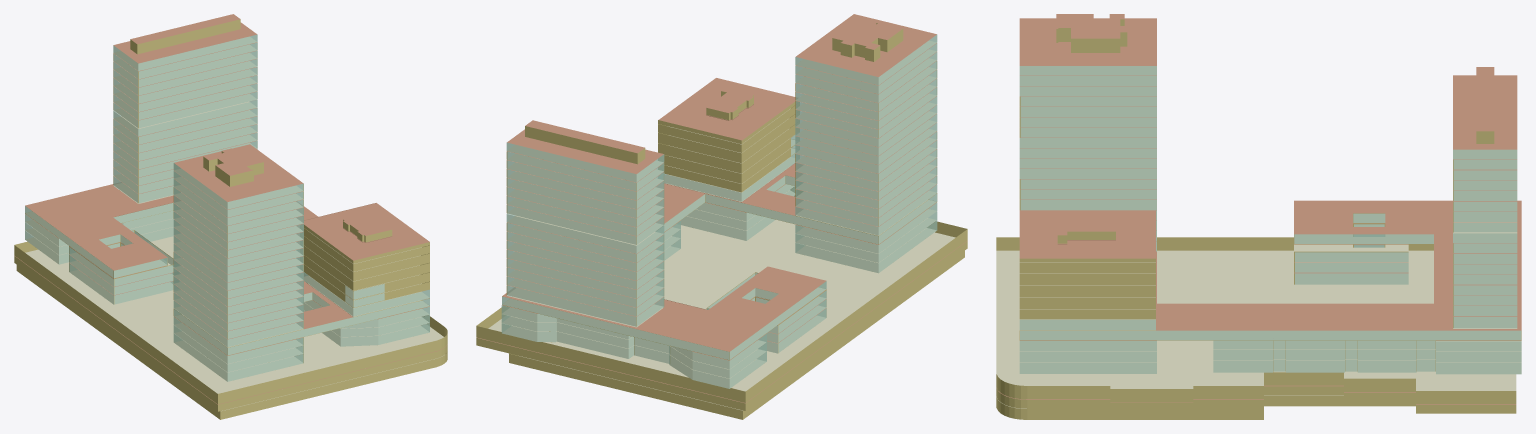
The model's file is 220128-ChengDu-Simple_9_Baseline.gltf.
The picture shows the model from 3 angles, left to right: view 1: azimuth 30°, elevation 25°; view 2: azimuth 150°, elevation 25°; view 3: azimuth 270°, elevation 25°; orthographic projection. The views are drawn at different scales.
Parts seen in each view (by area): view 1: Space A.A.b1.1:Interzone A.A.b1.1:Space A.A.b2.1:1, Space A.G.7.1:Roof A.G.7.1:1, Space A.F.19.1:Roof A.F.19.1:1, Space A.A.b1.1:Wall A.A.b1.1:1, Space A.A.b1.1:Wall A.A.b1.21:1, Space A.A.b3.1:Wall A.A.b3.1:1, Space A.F.1.1:Roof A.F.1.1:6, Space A.A.b2.1:Wall A.A.b2.1:1, Space A.F.1.1:Window A.F.1.1.1:1, Space A.A.b2.1:Wall A.A.b2.21:1, Space A.A.b3.1:Wall A.A.b3.13:1, Space A.H.17.1:Roof A.H.17.1:1 (+139 smaller); view 2: Space A.A.b1.1:Interzone A.A.b1.1:Space A.A.b2.1:1, Space A.G.7.1:Roof A.G.7.1:1, Space A.A.b1.1:Wall A.A.b1.20:1, Space A.F.19.1:Roof A.F.19.1:1, Space A.A.b1.1:Wall A.A.b1.21:1, Space A.A.b3.1:Wall A.A.b3.12:1, Space A.A.b2.1:Wall A.A.b2.20:1, Space A.F.1.1:Roof A.F.1.1:6, Space A.F.1.1:Window A.F.1.3.1:1, Space A.A.b2.1:Wall A.A.b2.21:1, Space A.A.b3.1:Wall A.A.b3.13:1, Space A.H.17.1:Roof A.H.17.1:1 (+142 smaller); view 3: Space A.A.b1.1:Interzone A.A.b1.1:Space A.A.b2.1:1, Space A.F.1.1:Roof A.F.1.1:9, Space A.F.1.1:Window A.F.1.2.1:1, Space A.G.7.1:Roof A.G.7.1:1, Space A.F.19.1:Roof A.F.19.1:1, Space A.H.17.1:Roof A.H.17.1:1, Space A.F.1.1:Interzone A.F.1.1:Space A.D.3.1:5, Space A.A.b1.1:Wall A.A.b1.21:1, Space A.A.b3.1:Wall A.A.b3.9:1, Space A.C.1.1:Window A.C.1.2.1:1, Space A.C.1.1:Interzone A.C.1.1:1, Space A.G.3.1:Wall A.G.3.2:1 (+134 smaller).
Part boxes in pixels (x1=…): Space A.A.b1.1:Interzone A.A.b1.1:Space A.A.b2.1:1: x1=25, y1=236, x2=443, y2=393; Space A.G.7.1:Roof A.G.7.1:1: x1=304, y1=203, x2=429, y2=260; Space A.F.19.1:Roof A.F.19.1:1: x1=174, y1=144, x2=303, y2=201; Space A.A.b1.1:Wall A.A.b1.1:1: x1=218, y1=340, x2=436, y2=404; Space A.A.b1.1:Wall A.A.b1.21:1: x1=14, y1=245, x2=217, y2=404; Space A.A.b3.1:Wall A.A.b3.1:1: x1=220, y1=358, x2=436, y2=419; Space A.F.1.1:Roof A.F.1.1:6: x1=25, y1=185, x2=137, y2=217; Space A.A.b2.1:Wall A.A.b2.1:1: x1=218, y1=351, x2=436, y2=411; Space A.F.1.1:Window A.F.1.1.1:1: x1=227, y1=298, x2=429, y2=355; Space A.A.b2.1:Wall A.A.b2.21:1: x1=14, y1=256, x2=217, y2=411; Space A.A.b3.1:Wall A.A.b3.13:1: x1=16, y1=265, x2=220, y2=419; Space A.H.17.1:Roof A.H.17.1:1: x1=113, y1=22, x2=257, y2=63; Space A.A.b1.1:Interzone A.A.b1.1:Space A.A.b2.1:1: x1=488, y1=219, x2=955, y2=391; Space A.G.7.1:Roof A.G.7.1:1: x1=659, y1=78, x2=796, y2=140; Space A.A.b1.1:Wall A.A.b1.20:1: x1=476, y1=326, x2=745, y2=402; Space A.F.19.1:Roof A.F.19.1:1: x1=796, y1=14, x2=936, y2=76; Space A.A.b1.1:Wall A.A.b1.21:1: x1=745, y1=229, x2=967, y2=402; Space A.A.b3.1:Wall A.A.b3.12:1: x1=509, y1=353, x2=742, y2=419; Space A.A.b2.1:Wall A.A.b2.20:1: x1=476, y1=338, x2=745, y2=410; Space A.F.1.1:Roof A.F.1.1:6: x1=637, y1=307, x2=729, y2=351; Space A.F.1.1:Window A.F.1.3.1:1: x1=502, y1=296, x2=729, y2=359; Space A.A.b2.1:Wall A.A.b2.21:1: x1=745, y1=241, x2=967, y2=410; Space A.A.b3.1:Wall A.A.b3.13:1: x1=743, y1=251, x2=964, y2=419; Space A.H.17.1:Roof A.H.17.1:1: x1=507, y1=129, x2=663, y2=173; Space A.A.b1.1:Interzone A.A.b1.1:Space A.A.b2.1:1: x1=996, y1=250, x2=1516, y2=390; Space A.F.1.1:Roof A.F.1.1:9: x1=1156, y1=303, x2=1452, y2=330; Space A.F.1.1:Window A.F.1.2.1:1: x1=1020, y1=330, x2=1521, y2=340; Space A.G.7.1:Roof A.G.7.1:1: x1=1019, y1=210, x2=1155, y2=258; Space A.F.19.1:Roof A.F.19.1:1: x1=1019, y1=18, x2=1156, y2=65; Space A.H.17.1:Roof A.H.17.1:1: x1=1453, y1=75, x2=1517, y2=149; Space A.F.1.1:Interzone A.F.1.1:Space A.D.3.1:5: x1=1213, y1=328, x2=1520, y2=339; Space A.A.b1.1:Wall A.A.b1.21:1: x1=996, y1=237, x2=1433, y2=250; Space A.A.b3.1:Wall A.A.b3.9:1: x1=1027, y1=409, x2=1263, y2=419; Space A.C.1.1:Window A.C.1.2.1:1: x1=1019, y1=362, x2=1156, y2=373; Space A.C.1.1:Interzone A.C.1.1:1: x1=1019, y1=362, x2=1156, y2=373; Space A.G.3.1:Wall A.G.3.2:1: x1=1019, y1=297, x2=1155, y2=308.
Bounding box in the file's own units: 142 × 120 × 205.
